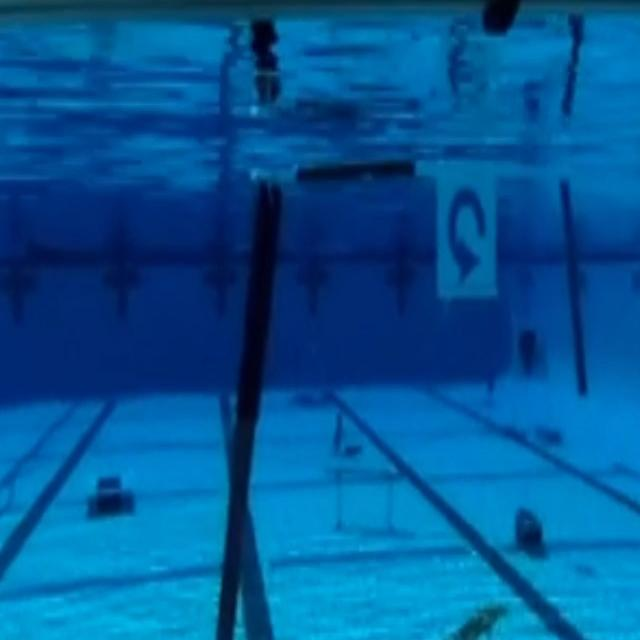Gate: (219, 170, 635, 628)
